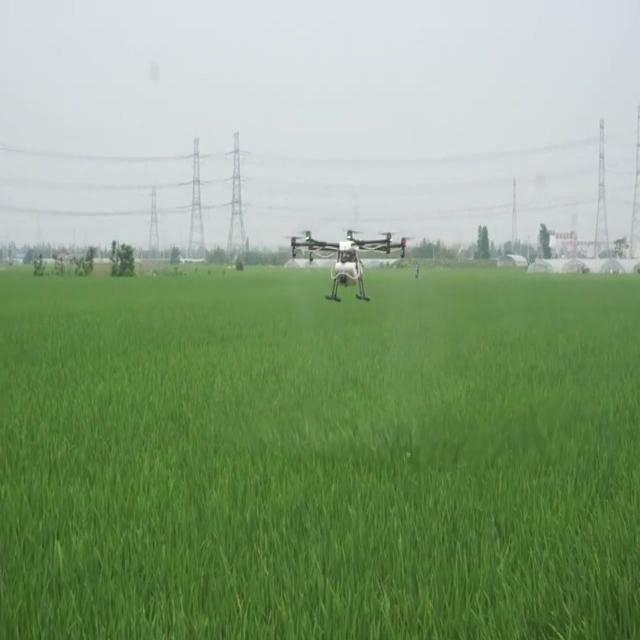UAV: (287, 229, 411, 303)
